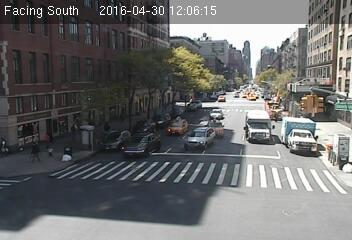neg: (299, 117, 328, 156), (218, 105, 245, 140), (268, 30, 288, 56), (314, 23, 332, 47), (77, 55, 94, 78), (184, 164, 200, 186), (40, 26, 56, 47), (35, 71, 49, 90), (127, 68, 140, 85), (304, 79, 316, 95), (137, 2, 142, 10), (255, 2, 260, 9)
pos: (26, 139, 45, 164)
